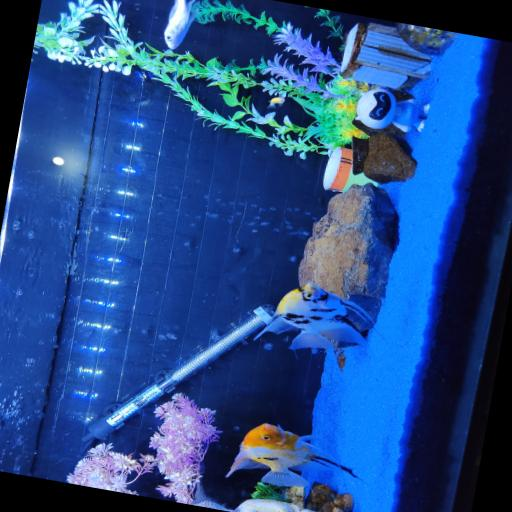Fish: (255, 282, 374, 352), (226, 424, 356, 487), (164, 0, 196, 49), (268, 97, 284, 109)
